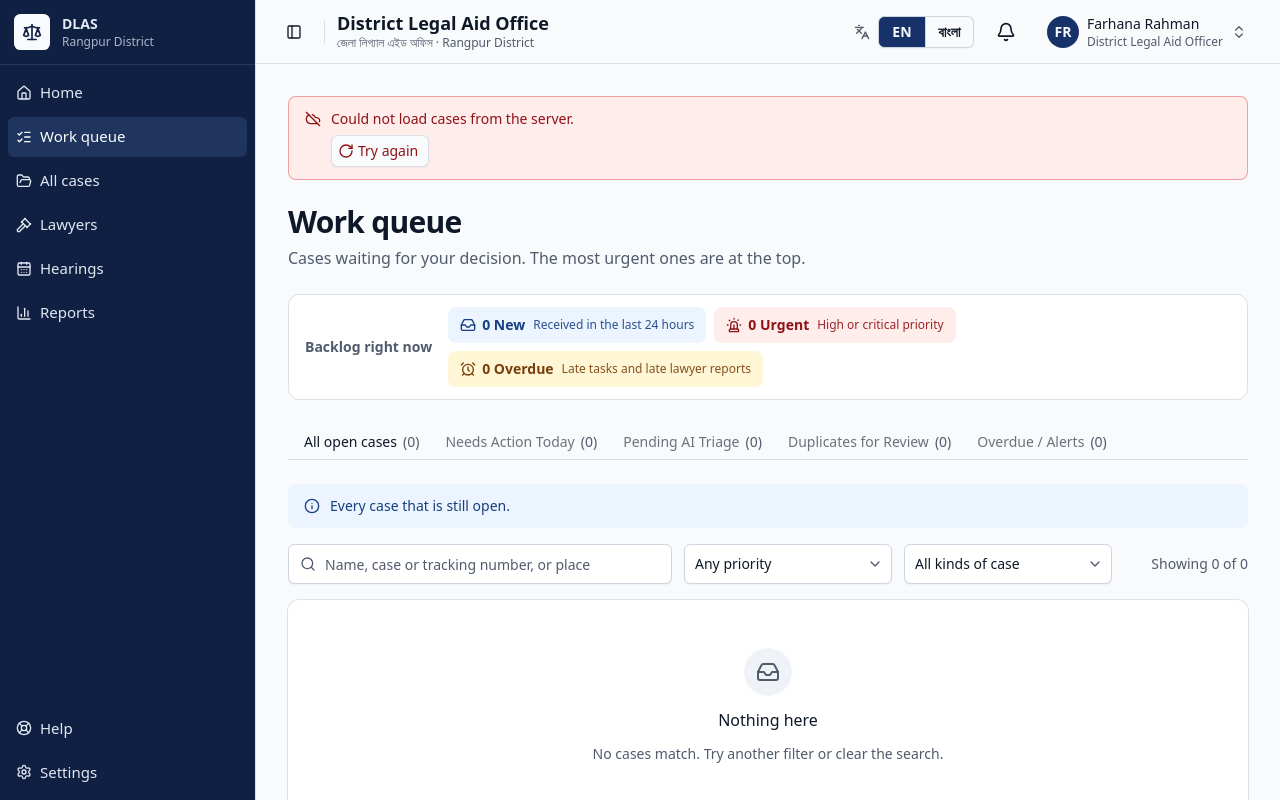
it: with a backend (VITE_API_URL) › offers a retry when the server cannot be reached
The width and height of the screenshot is (1280, 800).
Click the button "Try again". click: (380, 151)
box: x1=331 y1=135 x2=429 y2=167
(page scrolled)
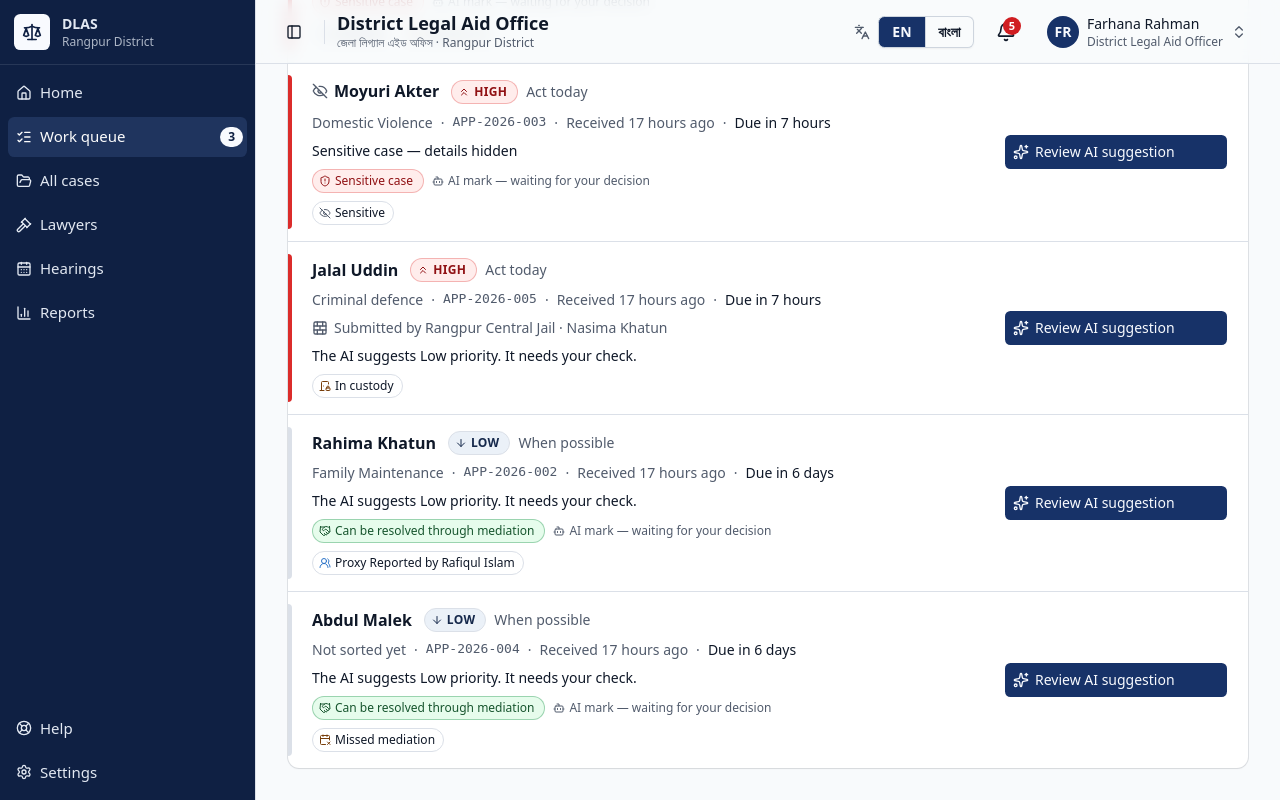
Now the button "Rahima Khatun" is shown, box x1=312 y1=431 x2=436 y2=455
Now the text "Could not load cases from the server." is gone
